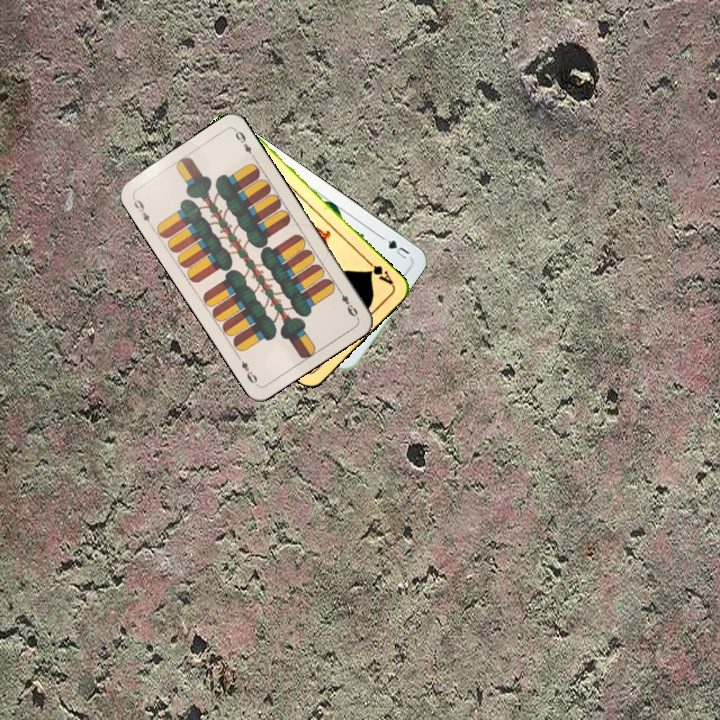E9: (129, 193, 155, 230), (334, 284, 360, 319)
GA: (363, 256, 396, 288)
GU: (383, 236, 412, 261)
